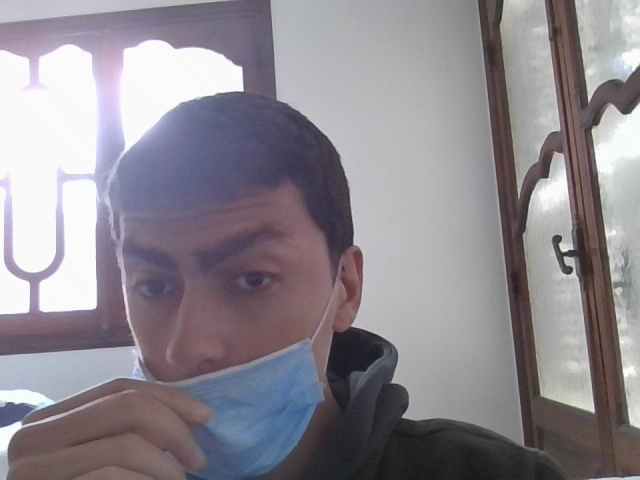mask_weared_incorrect: (113, 153, 337, 463)
